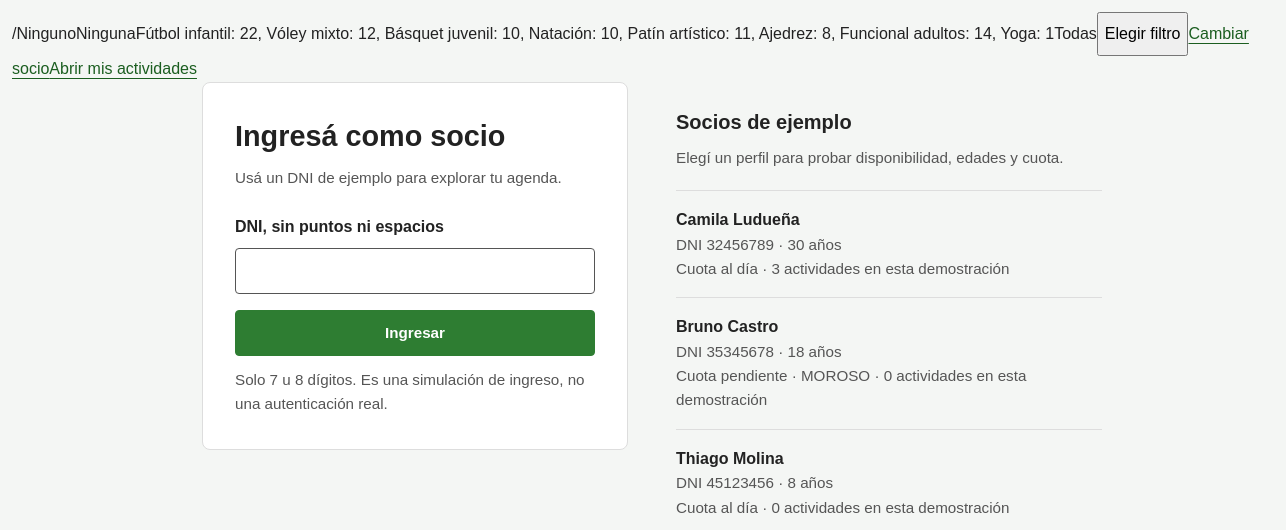
Test case: Ingreso local por DNI › selects the existing profile 32456789 and navigates to the agenda
The width and height of the screenshot is (1286, 530).
Type "32456789" into the field labelled "DNI, sin puntos ni espacios" at (415, 271), box [235,248,595,294]
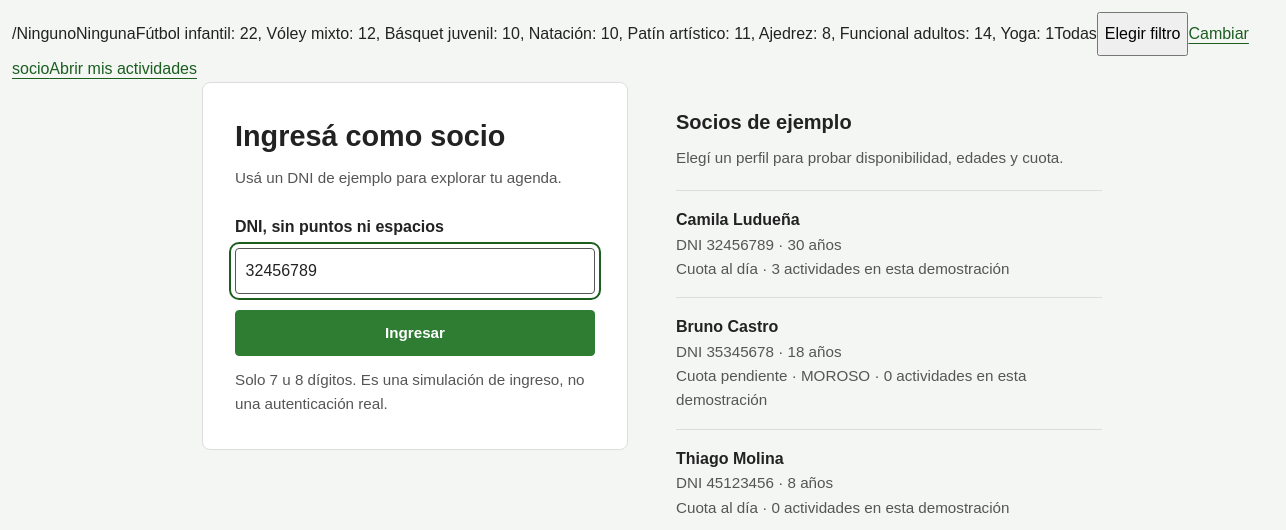
Click the button "Ingresar" at (415, 333), box [235,310,595,356]
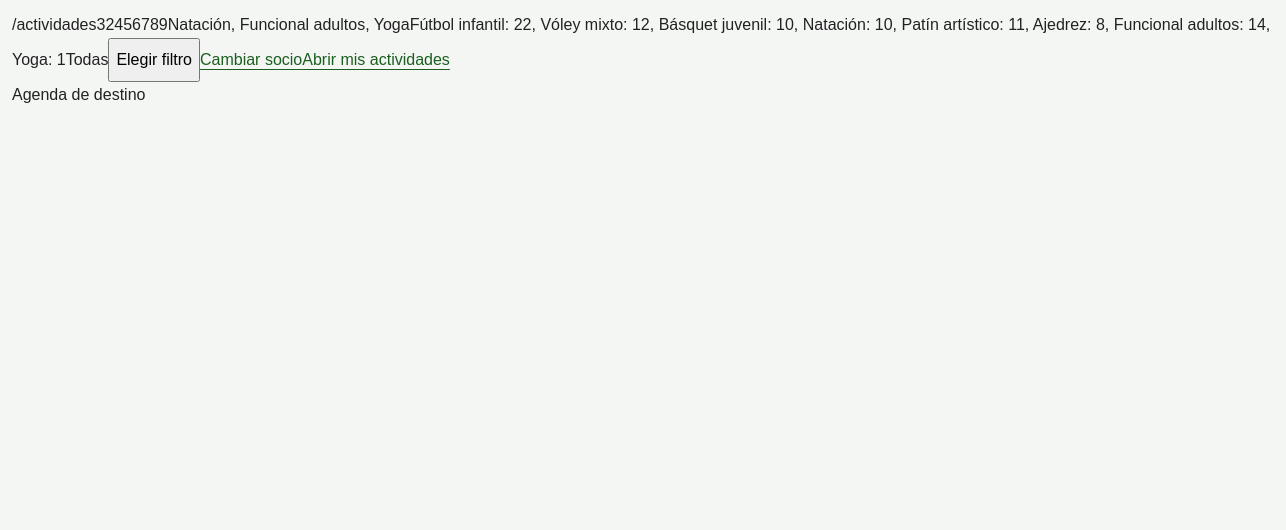
Result: the text named "Socio seleccionado" reads "32456789" at [96,16,168,33]
Result: the text named "Ruta actual" reads "/actividades" at [12,16,96,33]
